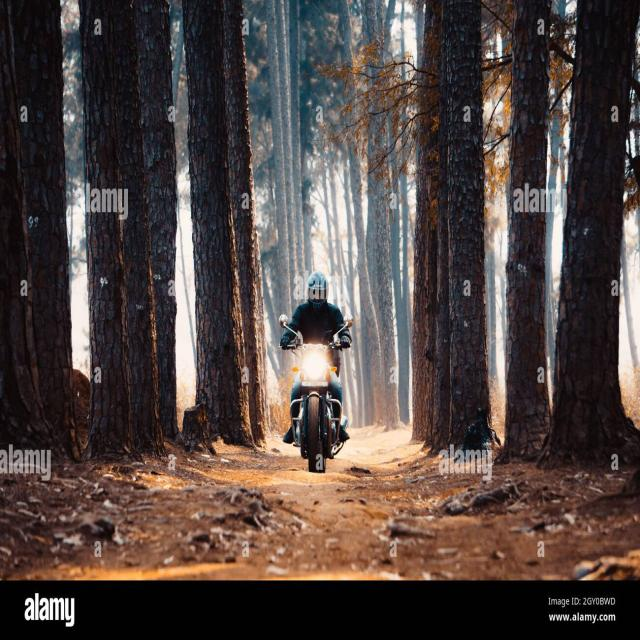Bike: (280, 311, 354, 471)
